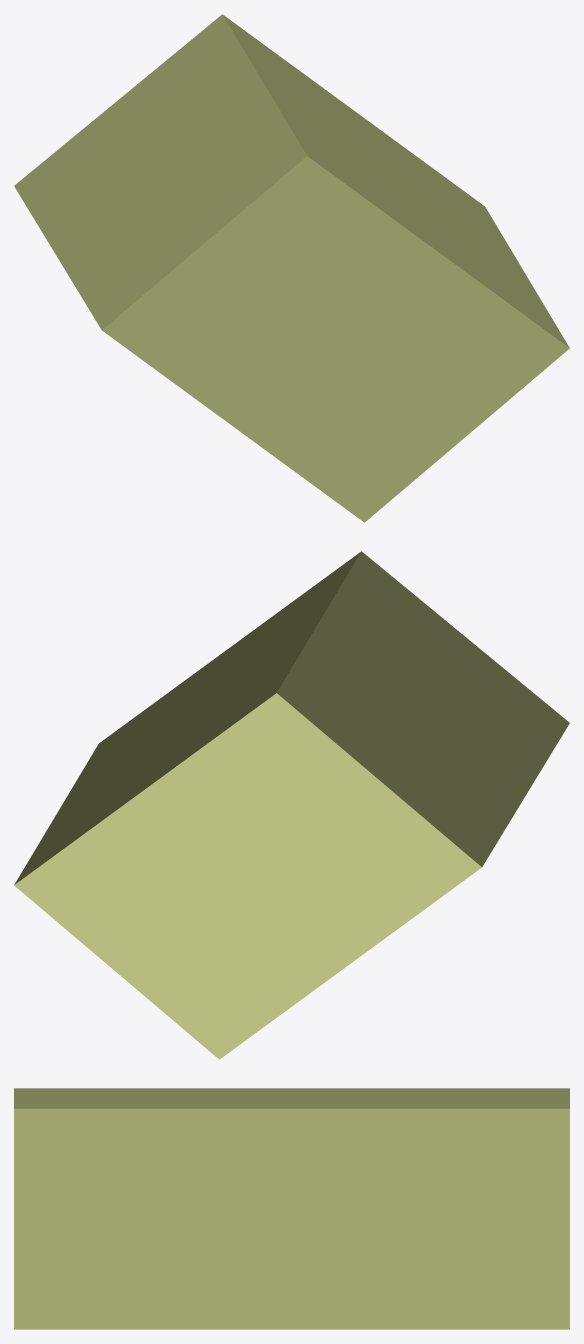
3 views of the same model, one above another, from view 1: azimuth 30°, elevation 25°; view 2: azimuth 150°, elevation 25°; view 3: azimuth 270°, elevation 25° (orthographic). The views are drawn at different scales.
Parts seen in each view (by area): view 1: 0_1_1_3_2_2_3_3_1_3_0_0; view 2: 0_1_1_3_2_2_3_3_1_3_0_0; view 3: 0_1_1_3_2_2_3_3_1_3_0_0.
Part boxes in pixels (x1,y1,x2,y2): 0_1_1_3_2_2_3_3_1_3_0_0: [14, 14, 569, 522]; 0_1_1_3_2_2_3_3_1_3_0_0: [14, 551, 569, 1059]; 0_1_1_3_2_2_3_3_1_3_0_0: [14, 1088, 569, 1329].
Size of the model in its own units: 5.8 by 5.42 by 9.
